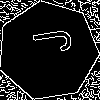J: (23, 26, 73, 58)
